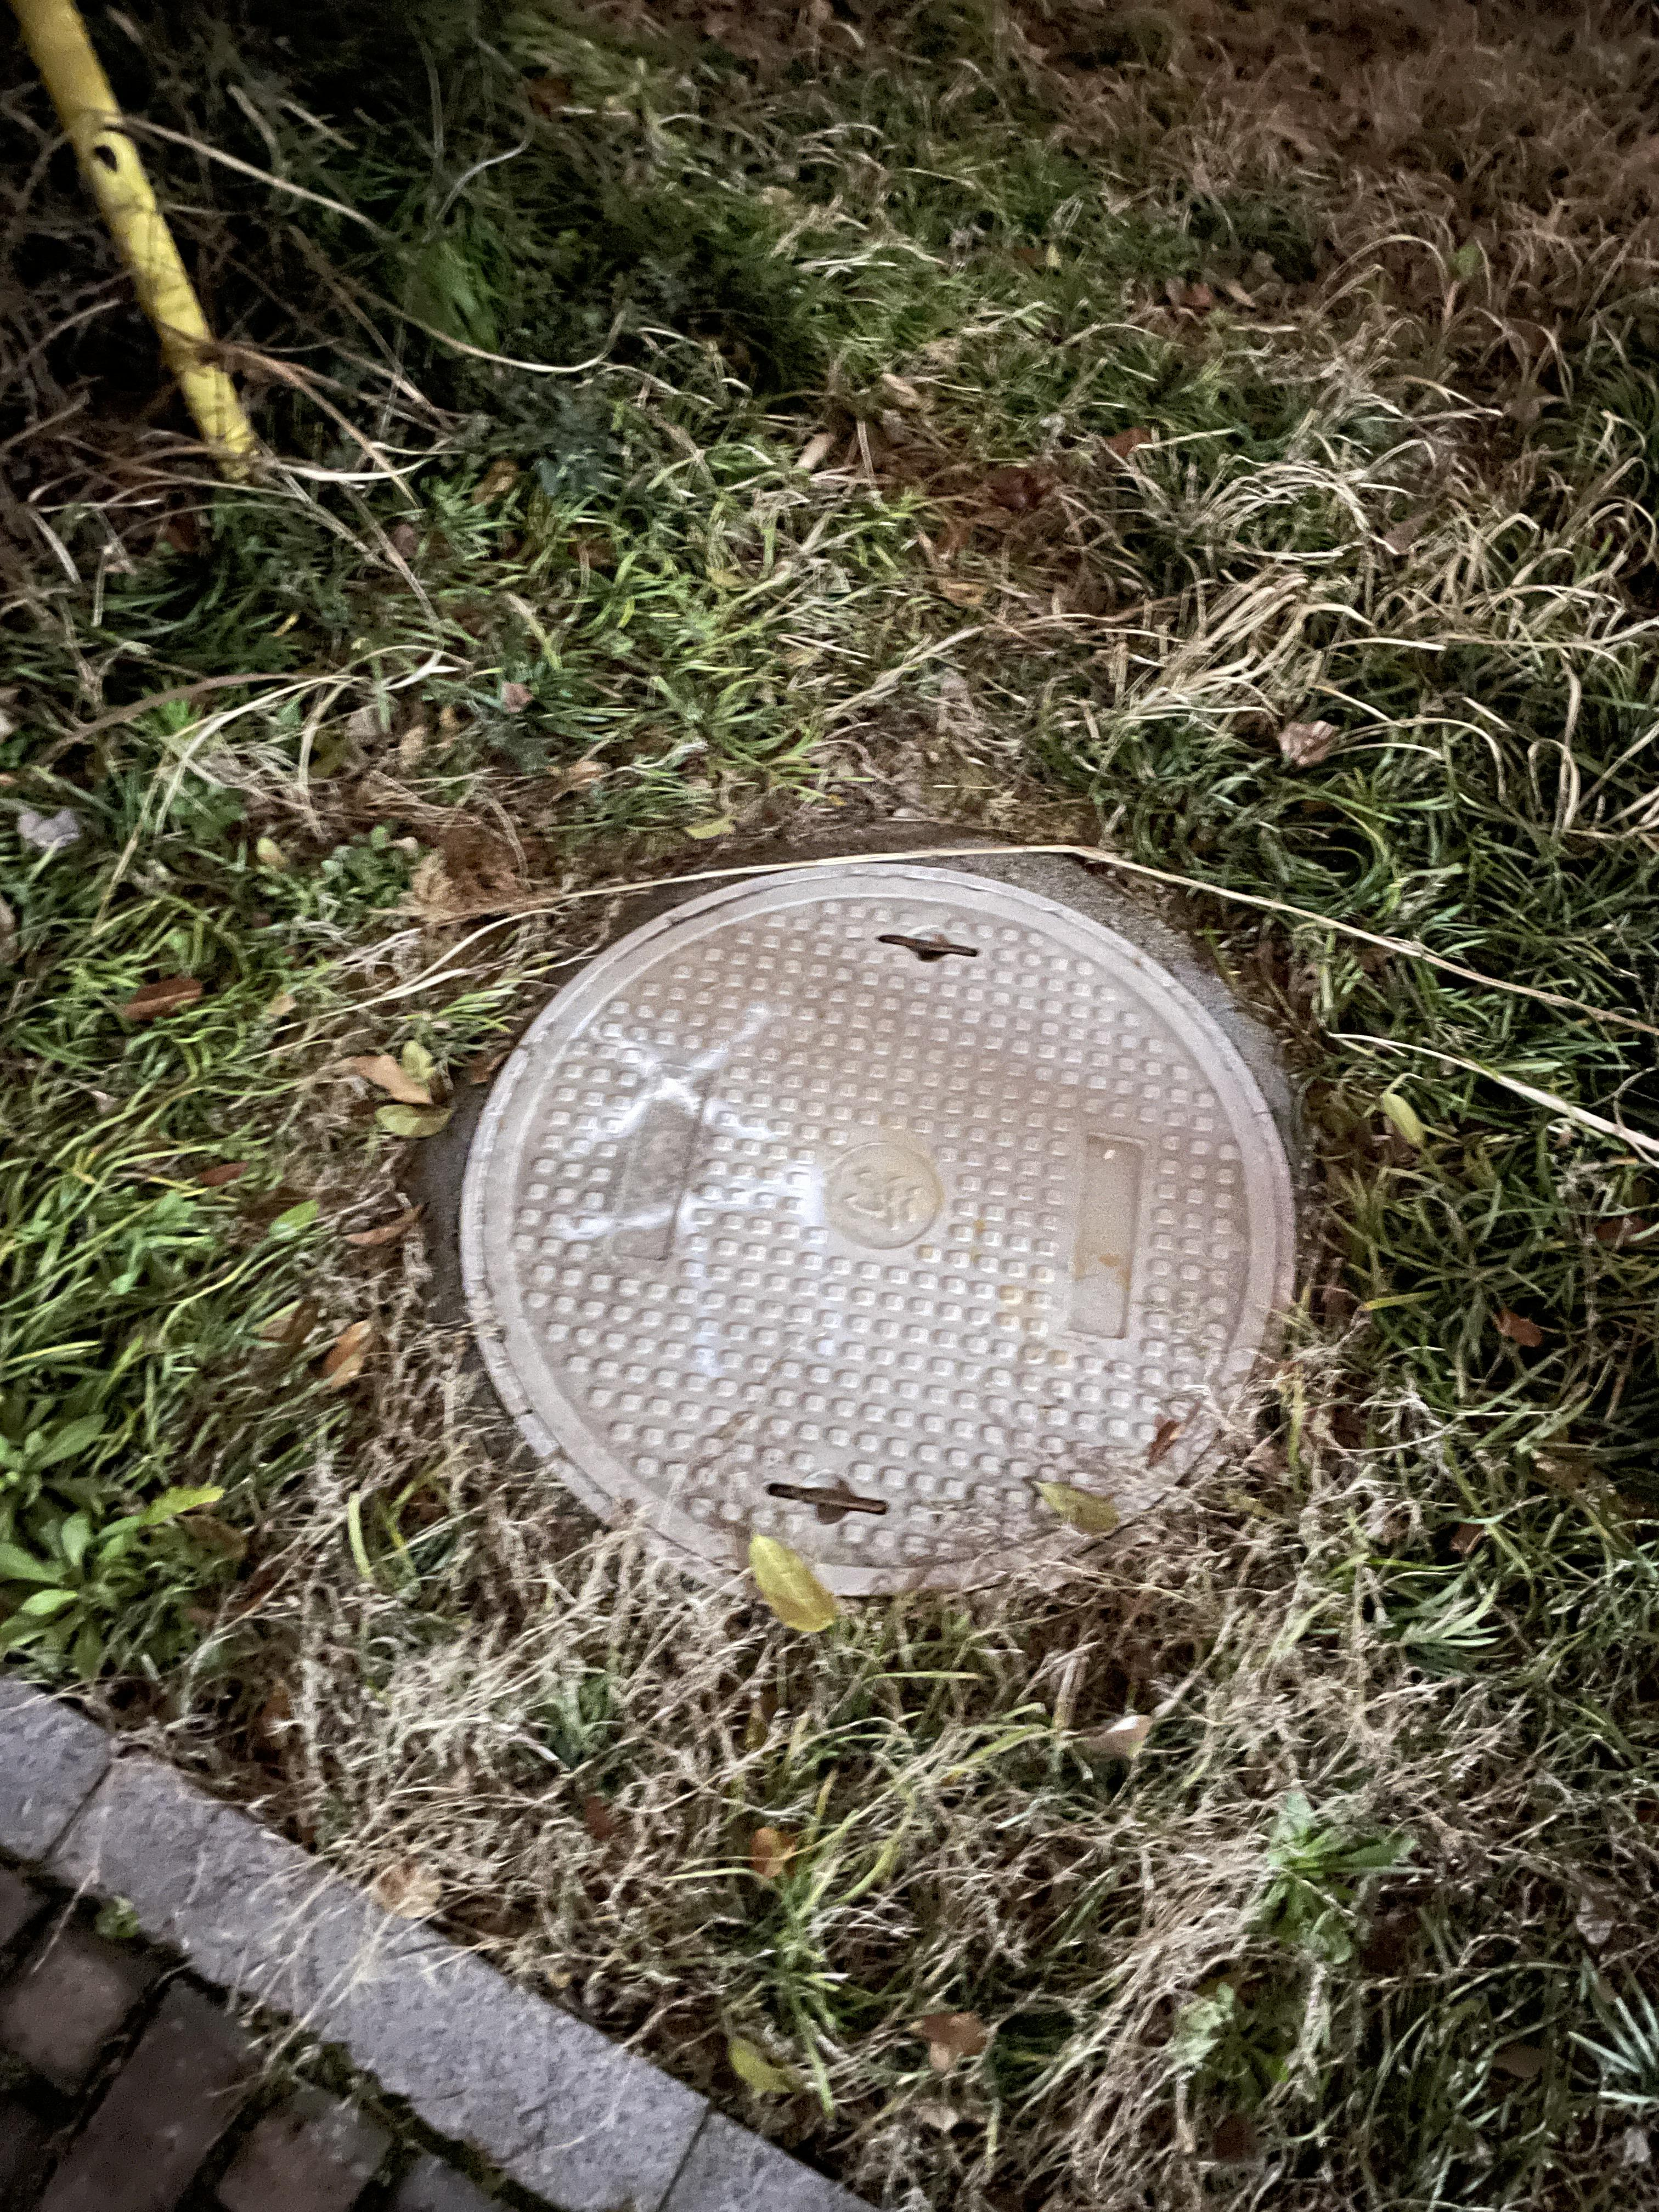wellcover: (385, 826, 1363, 1642)
